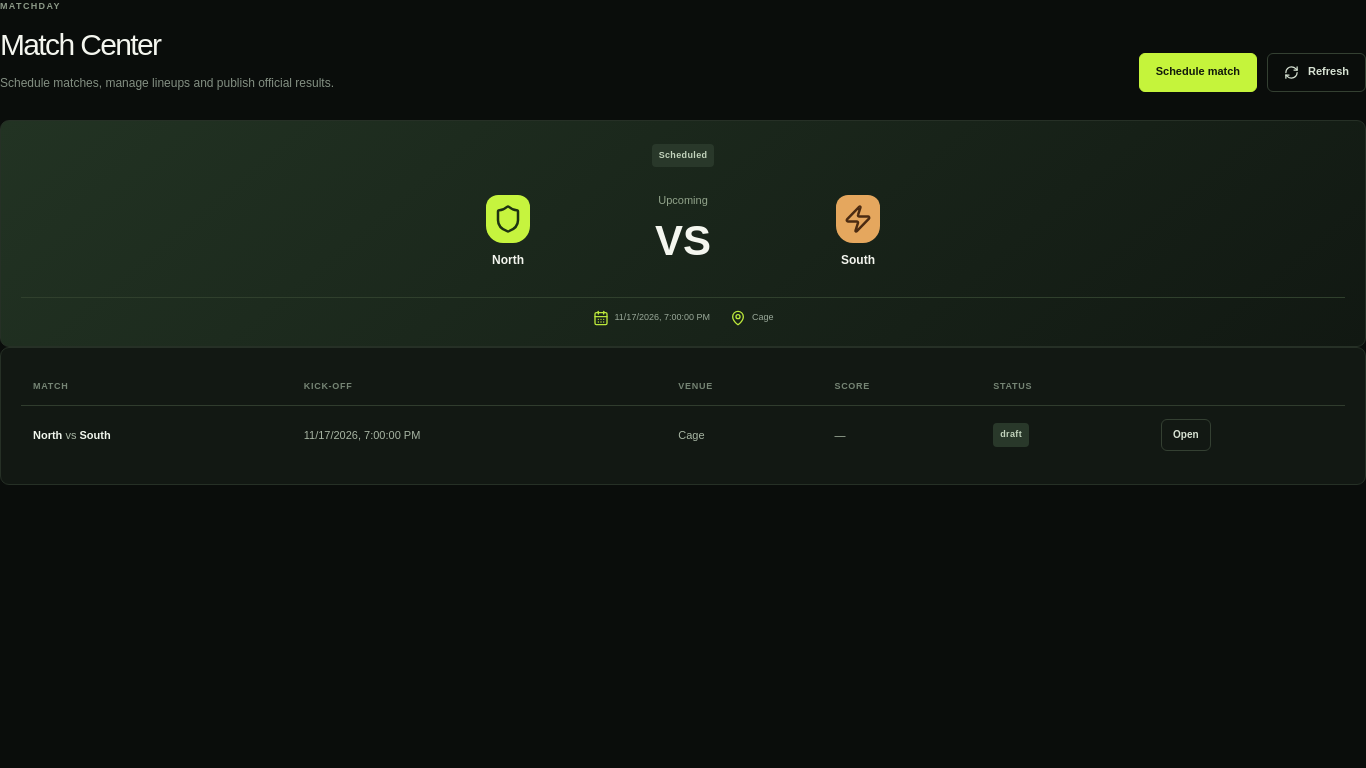
Test case: Live fixtures and scheduling › remounts the lineup editor when a correction revision becomes active
Later steps or results of the test are not shown.
Click the button "Open" at x=1186, y=435, box top-left (1161, 419), bottom-right (1211, 451)
(page scrolled)
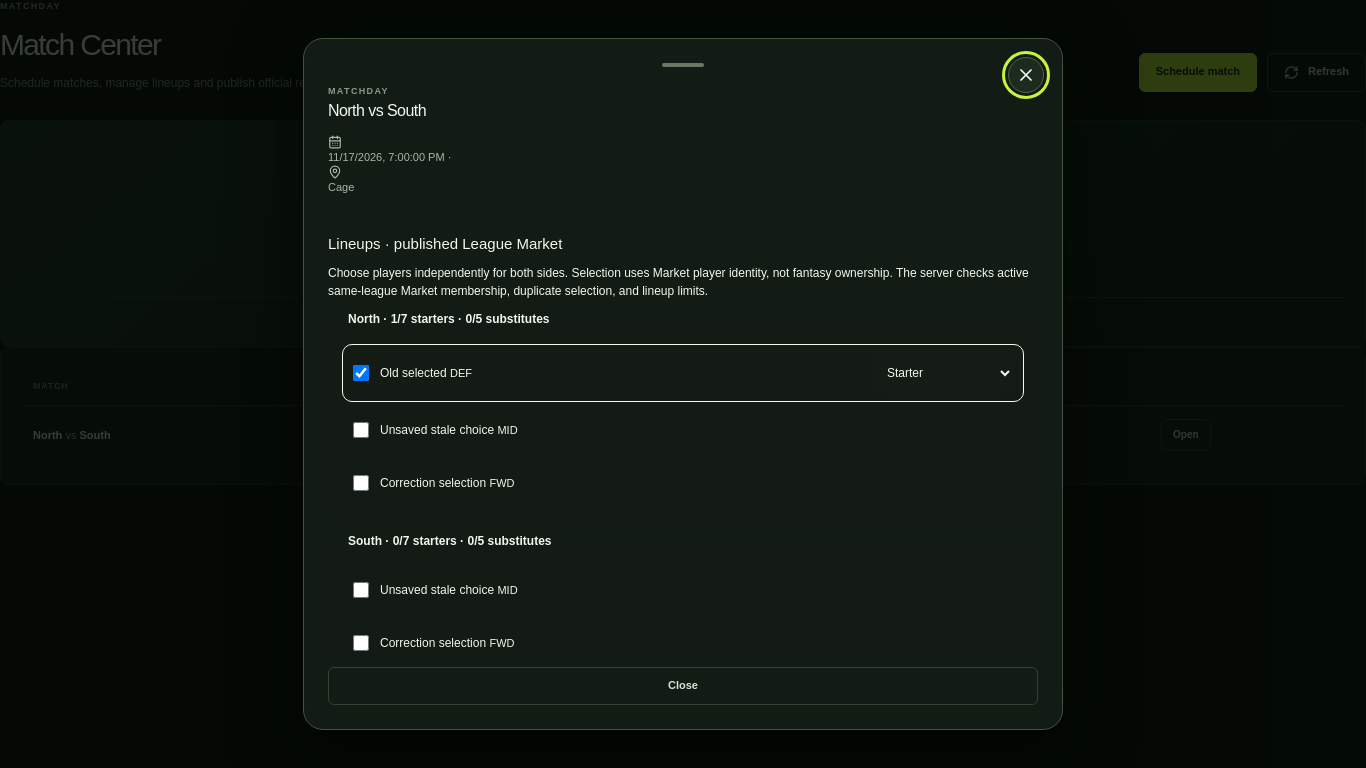
Click the checkbox labelled "Unsaved stale choice MID" below "Old selected" at x=361, y=430, box top-left (353, 422), bottom-right (369, 438)
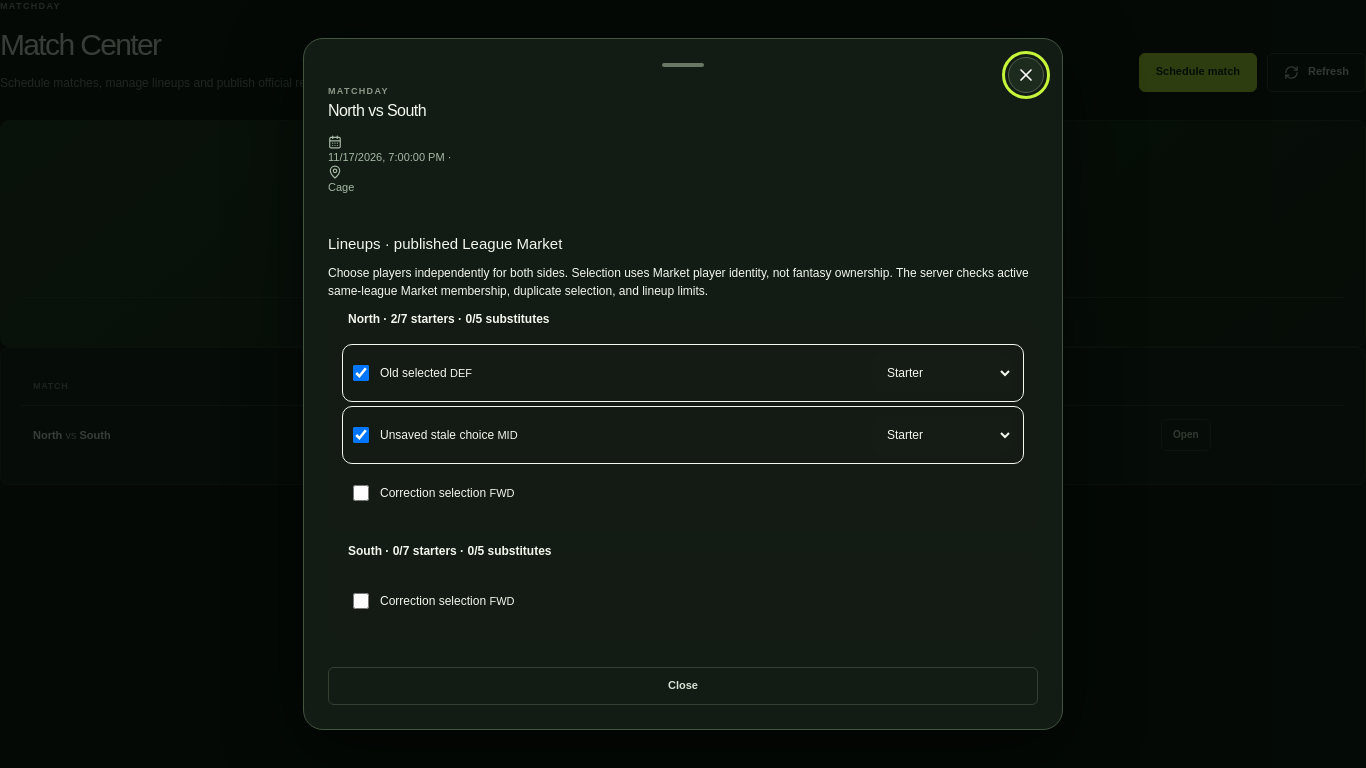
expect the checkbox labelled "Unsaved stale choice MID" is checked: met, box top-left (353, 427), bottom-right (369, 443)
